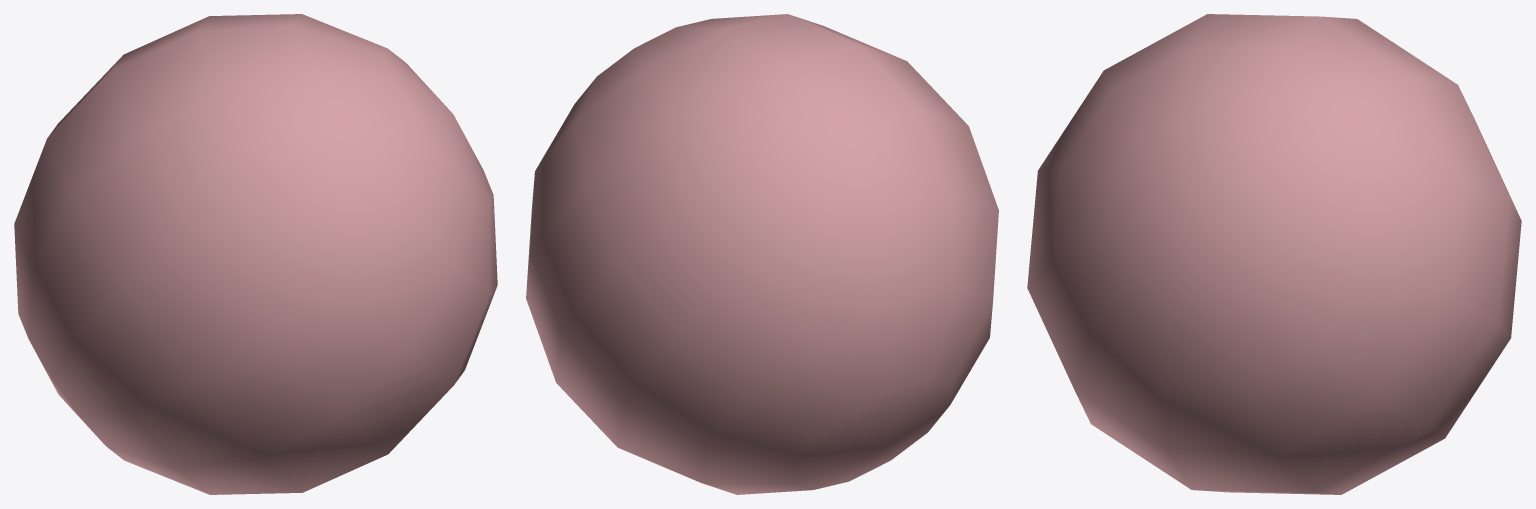
3 renders of one model, left to right at view 1: azimuth 30°, elevation 25°; view 2: azimuth 150°, elevation 25°; view 3: azimuth 270°, elevation 25°, orthographic. The views are drawn at different scales.
Parts seen in each view (by area): view 1: ZA_5be0c9fcfc754e2c; view 2: ZA_5be0c9fcfc754e2c; view 3: ZA_5be0c9fcfc754e2c.
Boxes of the visible parts, x1=… form: ZA_5be0c9fcfc754e2c: x1=14, y1=14, x2=497, y2=494; ZA_5be0c9fcfc754e2c: x1=526, y1=14, x2=998, y2=494; ZA_5be0c9fcfc754e2c: x1=1027, y1=14, x2=1521, y2=494.
Bounding box in the file's own units: 0.00257 × 0.00256 × 0.00256.
